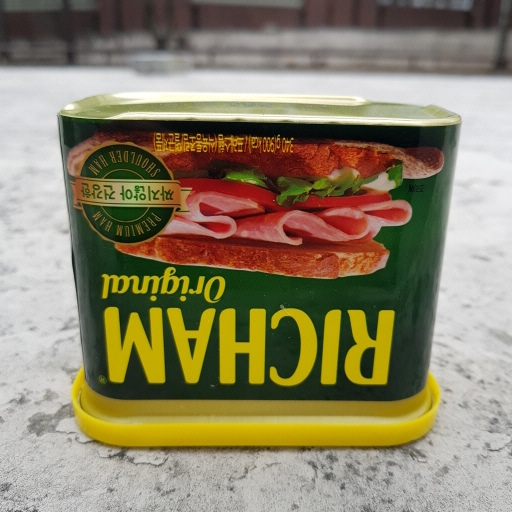Metal_2: (49, 88, 465, 446)
